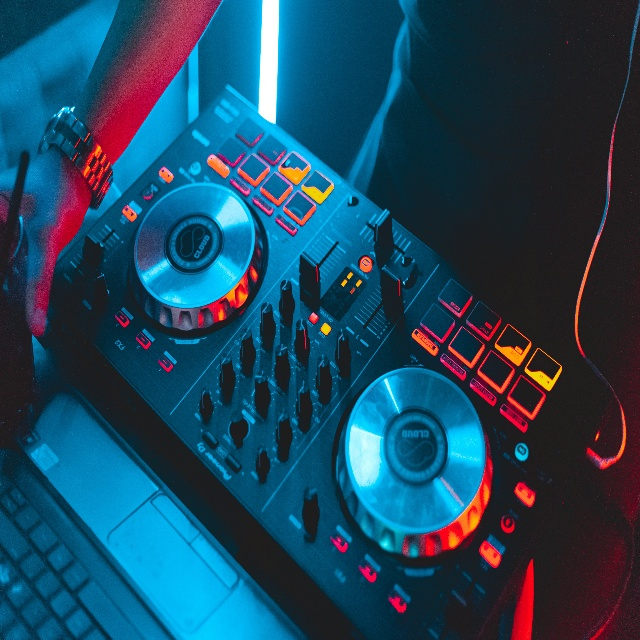Sin_guantes: (0, 158, 95, 325)
